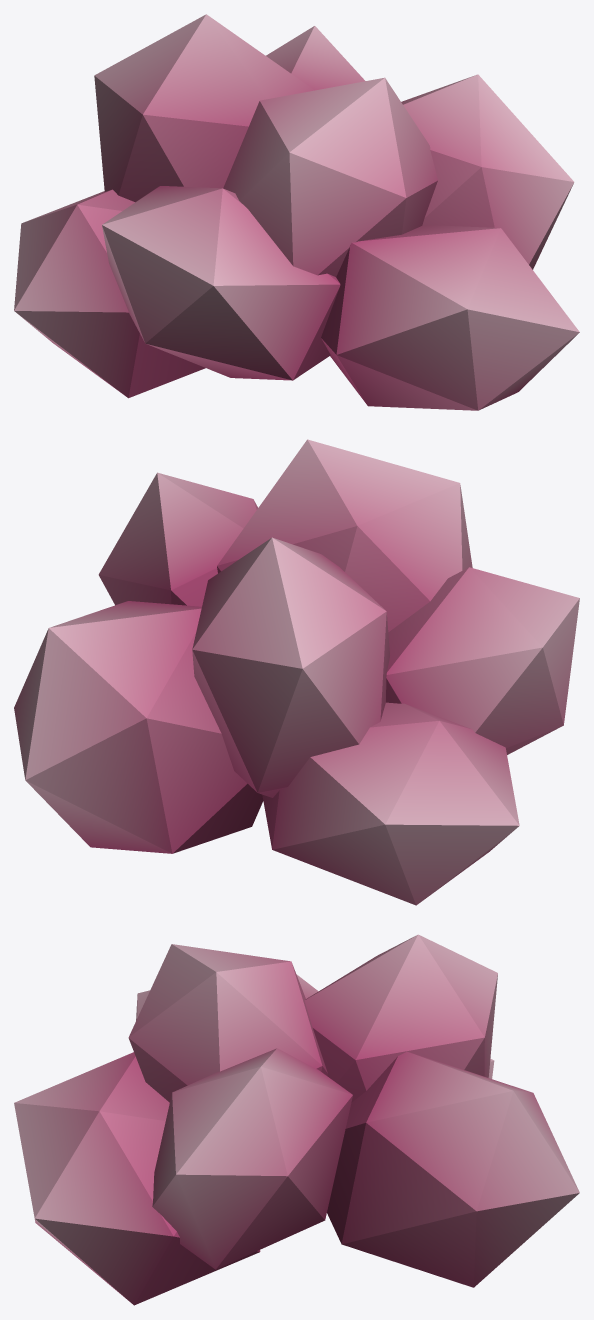
The model's file is coral-cauliflower.glb.
The picture shows the model from 3 angles, top to bottom: view 1: azimuth 30°, elevation 25°; view 2: azimuth 150°, elevation 25°; view 3: azimuth 270°, elevation 25°; orthographic projection. The views are drawn at different scales.
Parts seen in each view (by area): view 1: coral-cauliflower_mesh; view 2: coral-cauliflower_mesh; view 3: coral-cauliflower_mesh.
Part boxes in pixels (x1,y1,x2,y2): coral-cauliflower_mesh: [14, 14, 579, 410]; coral-cauliflower_mesh: [14, 439, 579, 905]; coral-cauliflower_mesh: [14, 934, 579, 1305].
Size of the model in its own units: 0.3152 by 0.2138 by 0.3573.
